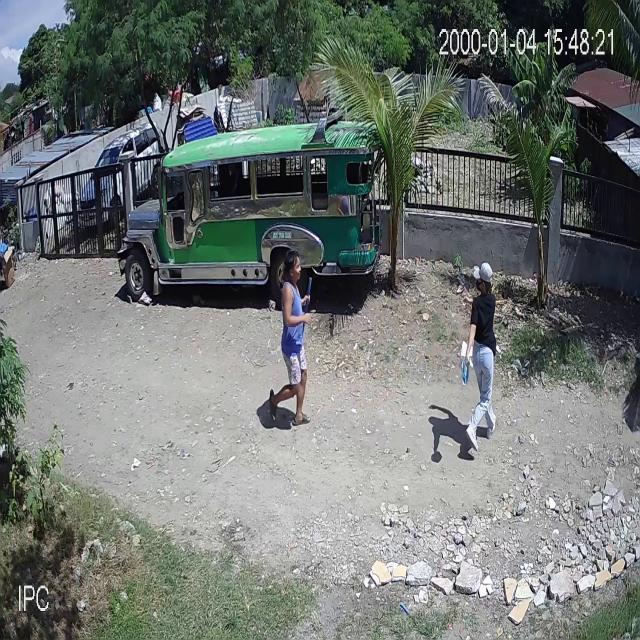running: (269, 251, 312, 427), (460, 260, 496, 450)
